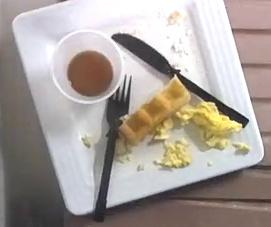scrambled_eggs: (153, 102, 242, 168)
waffle: (119, 76, 190, 145)
